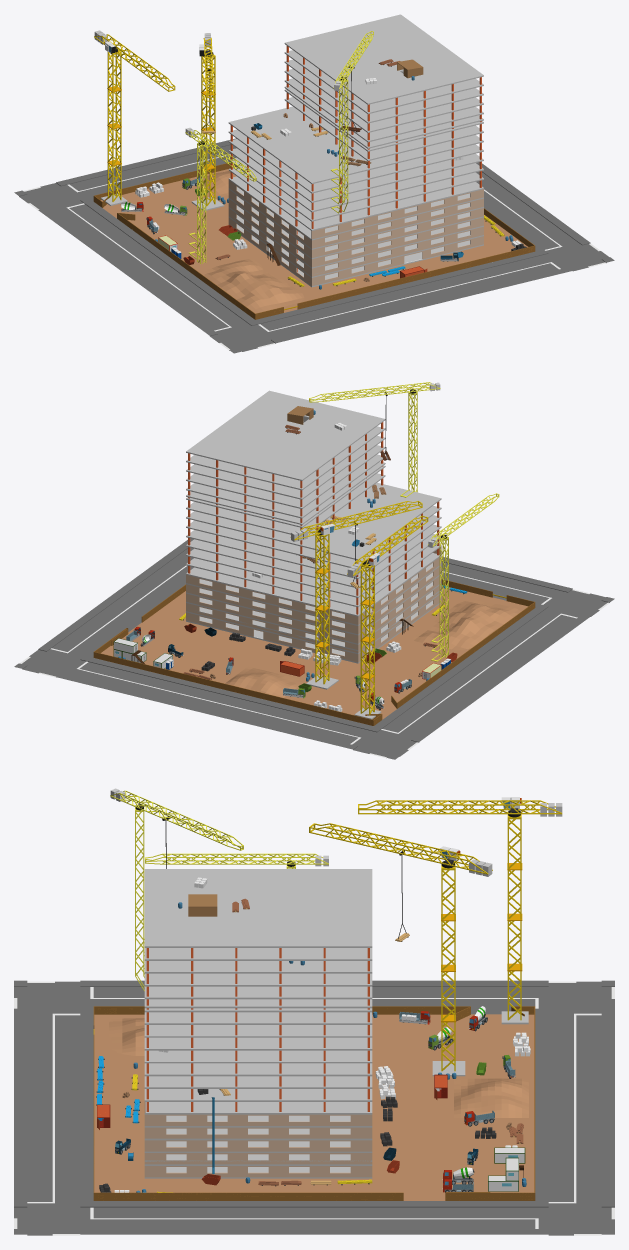
Rendered from HouseConstructionSite.glb.
3 renders of one model, top to bottom at view 1: azimuth 30°, elevation 25°; view 2: azimuth 150°, elevation 25°; view 3: azimuth 270°, elevation 25°, orthographic. The views are drawn at different scales.
Parts seen in each view (by area): view 1: Roads, BuildingFloor.001, BuildingSmallFloor.001, Ground, Fassade, Fence, Crane Ground unrotated, Crane Ground, Crane Mounted, Crane Mounted unrotated, BuildingSingleSmallFloor, BuildingBase (+1 smaller); view 2: Roads, BuildingFloor.001, BuildingSmallFloor.001, Ground, Fassade, Fence, Crane Ground, Crane Ground unrotated, Crane Mounted, Crane Mounted unrotated, BuildingSingleSmallFloor, BuildingBase (+1 smaller); view 3: Roads, Ground, BuildingSmallFloor.001, BuildingFloor.001, Fassade, Fence, Crane Ground, Crane Ground unrotated, Crane Mounted, BuildingSingleSmallFloor, Crane Mounted unrotated, BuildingBase (+1 smaller).
Part boxes in pixels (x1,y1,x2,y2): Roads: (14,138,614,353); BuildingFloor.001: (228,106,483,277); BuildingSmallFloor.001: (284,14,483,168); Ground: (101,169,527,313); Fassade: (228,180,483,285); Fence: (93,162,535,319); Crane Ground unrotated: (94,30,175,205); Crane Ground: (191,33,224,211); Crane Mounted: (331,31,373,213); Crane Mounted unrotated: (185,127,256,264); BuildingSingleSmallFloor: (284,85,483,155); BuildingBase: (237,224,483,287); Roads: (14,538,614,759); BuildingFloor.001: (186,482,441,653); BuildingSmallFloor.001: (186,390,385,544); Ground: (101,587,528,719); Fassade: (186,546,441,662); Fence: (93,579,535,725); Crane Ground: (290,501,422,689); Crane Ground unrotated: (347,515,428,719); Crane Mounted: (309,382,440,497); Crane Mounted unrotated: (428,493,499,661); BuildingSingleSmallFloor: (186,461,385,529); BuildingBase: (186,600,440,663); Roads: (14,980,614,1235); Ground: (94,1014,534,1200); BuildingSmallFloor.001: (144,869,372,1035); BuildingFloor.001: (144,1025,372,1165); Fassade: (144,1102,372,1177); Fence: (93,1006,535,1200); Crane Ground: (309,823,492,1076); Crane Ground unrotated: (358,797,562,1024); Crane Mounted: (110,788,243,991); BuildingSingleSmallFloor: (144,999,372,1017); Crane Mounted unrotated: (145,853,328,868); BuildingBase: (144,1167,372,1178).
Bounding box in the file's own units: 136 × 76.89 × 136.
3 materials, 3 textured.
